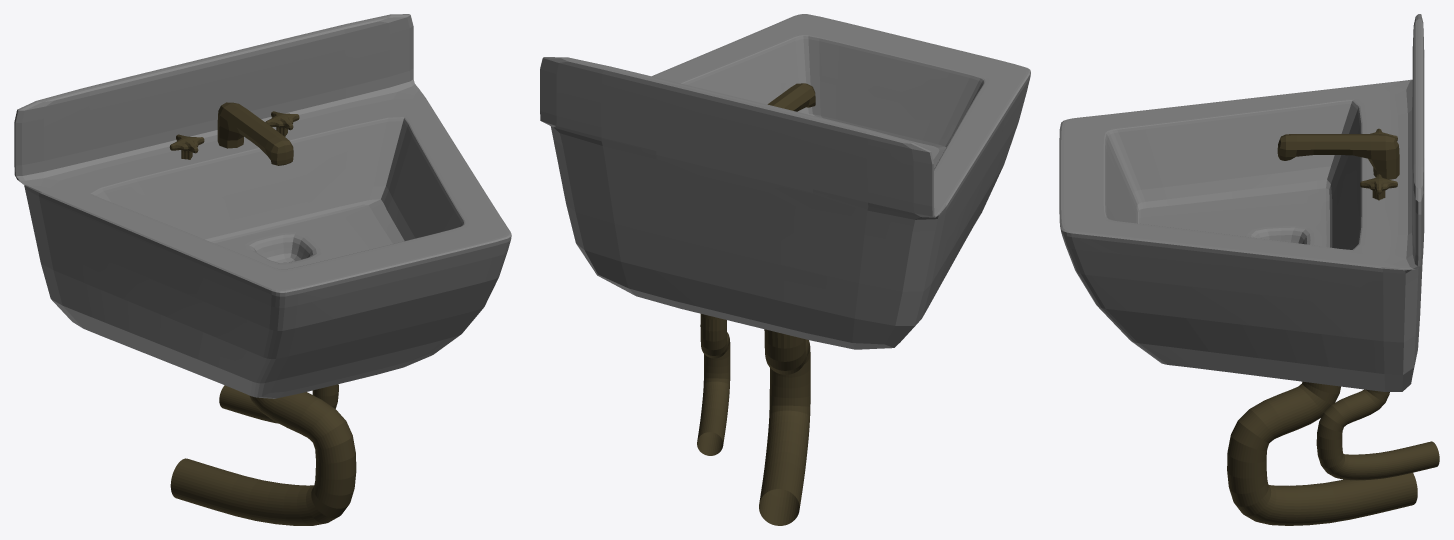
File: chiuveta baie.fbx
3 renders of one model, left to right at view 1: azimuth 30°, elevation 25°; view 2: azimuth 150°, elevation 25°; view 3: azimuth 270°, elevation 25°, orthographic.
Parts seen in each view (by area): view 1: Cylinder.005; view 2: Cylinder.005; view 3: Cylinder.005.
Boxes of the visible parts, bbox=[...] form: Cylinder.005: bbox=[14, 14, 511, 525]; Cylinder.005: bbox=[540, 14, 1030, 525]; Cylinder.005: bbox=[1059, 14, 1439, 525].
Bounding box in the file's own units: 79.88 × 82.23 × 67.4.
